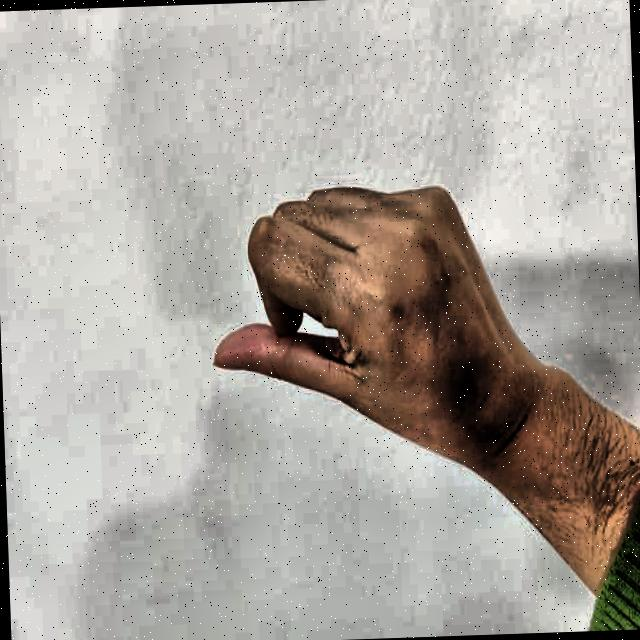Ay: (177, 104, 500, 517)
